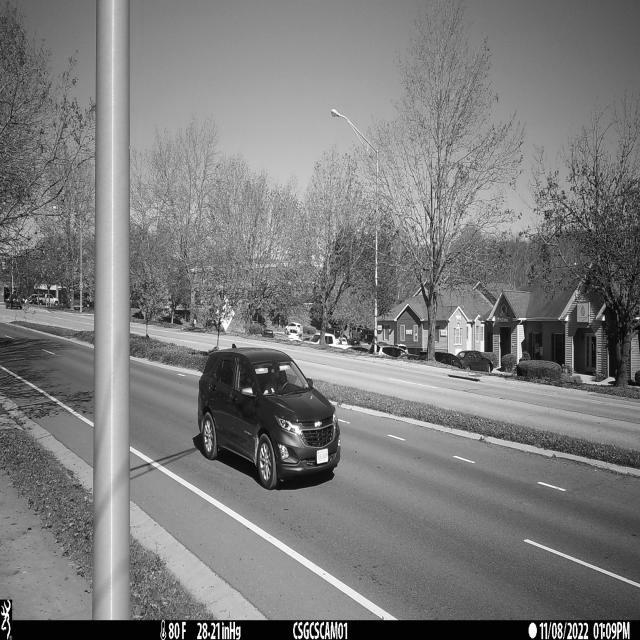SUV: (198, 343, 340, 491)
